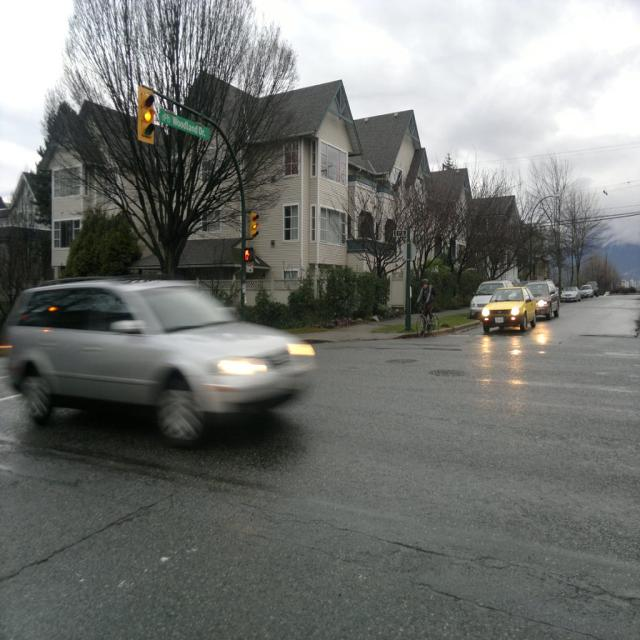car: (5, 268, 308, 442), (478, 284, 537, 339)
